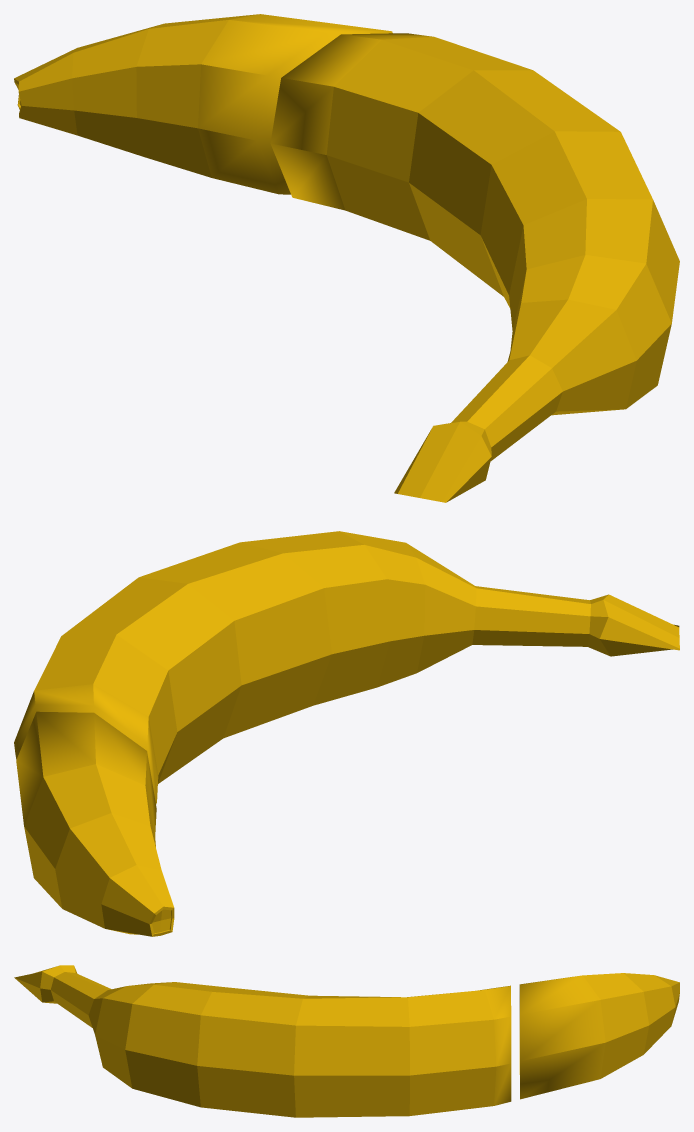
Rendered from banana_1cut_final.obj.
3 views of the same model, one above another, from view 1: azimuth 30°, elevation 25°; view 2: azimuth 150°, elevation 25°; view 3: azimuth 270°, elevation 25° (orthographic). The views are drawn at different scales.
Visible parts, largest first — view 1: Banana_Cylinder, Banana_Cylinder.001; view 2: Banana_Cylinder, Banana_Cylinder.001; view 3: Banana_Cylinder, Banana_Cylinder.001.
Part boxes in pixels (x1=…): Banana_Cylinder: x1=270, y1=33, x2=679, y2=502; Banana_Cylinder.001: x1=14, y1=14, x2=392, y2=194; Banana_Cylinder: x1=14, y1=531, x2=679, y2=804; Banana_Cylinder.001: x1=16, y1=711, x2=174, y2=936; Banana_Cylinder: x1=14, y1=965, x2=511, y2=1117; Banana_Cylinder.001: x1=519, y1=973, x2=679, y2=1099.
Size of the model in its own units: 0.1554 by 0.0596 by 0.3127.
